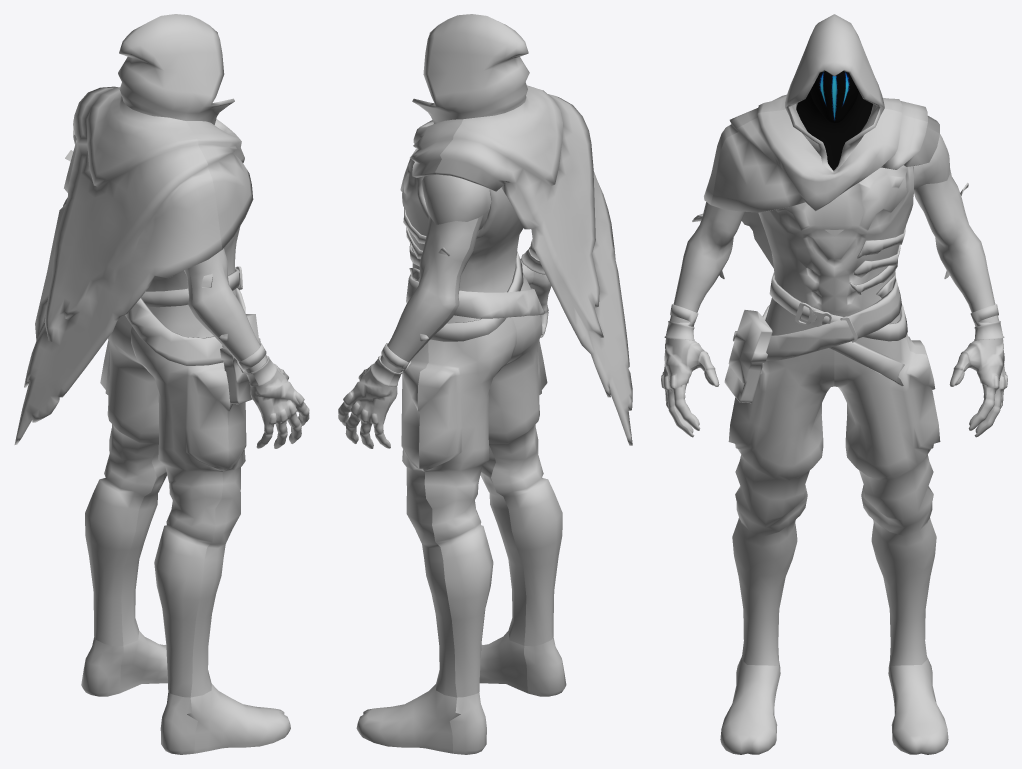
The model's file is player.obj.
The picture shows the model from 3 angles, left to right: view 1: azimuth 30°, elevation 25°; view 2: azimuth 150°, elevation 25°; view 3: azimuth 270°, elevation 25°; orthographic projection.
Parts seen in each view (by area): view 1: TP_Wraith_S0_Skelmesh.mo.001_TP_Wraith_S0_Skelmesh.md.001; view 2: TP_Wraith_S0_Skelmesh.mo.001_TP_Wraith_S0_Skelmesh.md.001; view 3: TP_Wraith_S0_Skelmesh.mo.001_TP_Wraith_S0_Skelmesh.md.001.
Part boxes in pixels (left/top/right/bottom): TP_Wraith_S0_Skelmesh.mo.001_TP_Wraith_S0_Skelmesh.md.001: left=14, top=14, right=309, bottom=754; TP_Wraith_S0_Skelmesh.mo.001_TP_Wraith_S0_Skelmesh.md.001: left=338, top=14, right=632, bottom=754; TP_Wraith_S0_Skelmesh.mo.001_TP_Wraith_S0_Skelmesh.md.001: left=661, top=14, right=1007, bottom=754.
Size of the model in its own units: 1.95 by 5.69 by 2.56.
